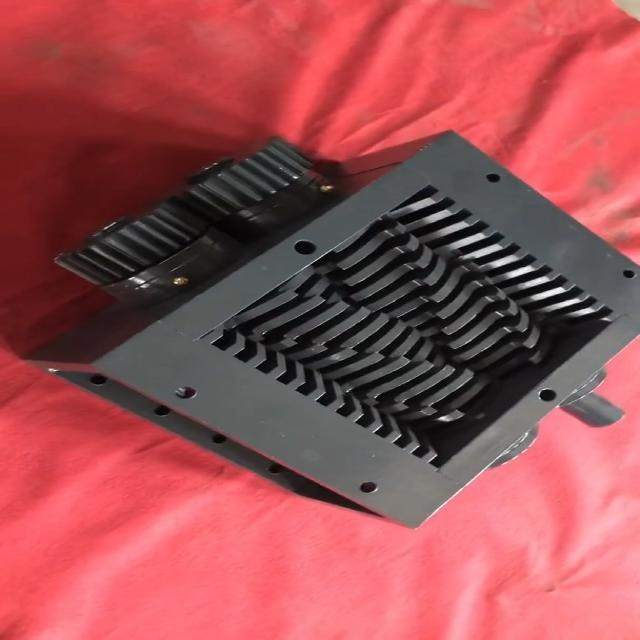Broyeur: (191, 181, 640, 473)
